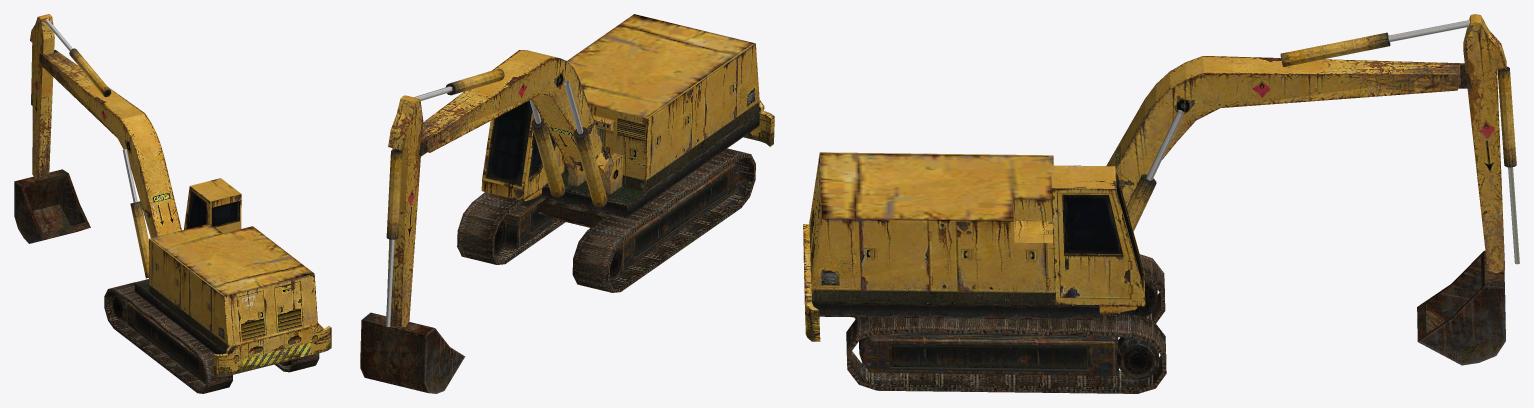
Rendered from Navvy.FBX.
3 views of the same model, side by side, from view 1: azimuth 30°, elevation 25°; view 2: azimuth 150°, elevation 25°; view 3: azimuth 270°, elevation 25° (orthographic). The views are drawn at different scales.
Parts seen in each view (by area): view 1: Navvy; view 2: Navvy; view 3: Navvy.
Boxes of the visible parts, box(x1,y1,x2,y2) form: Navvy: box(14, 14, 331, 393); Navvy: box(360, 14, 774, 393); Navvy: box(803, 14, 1519, 393).
Bounding box in the file's own units: 289 × 505 × 1001.
1 material, 1 textured.
